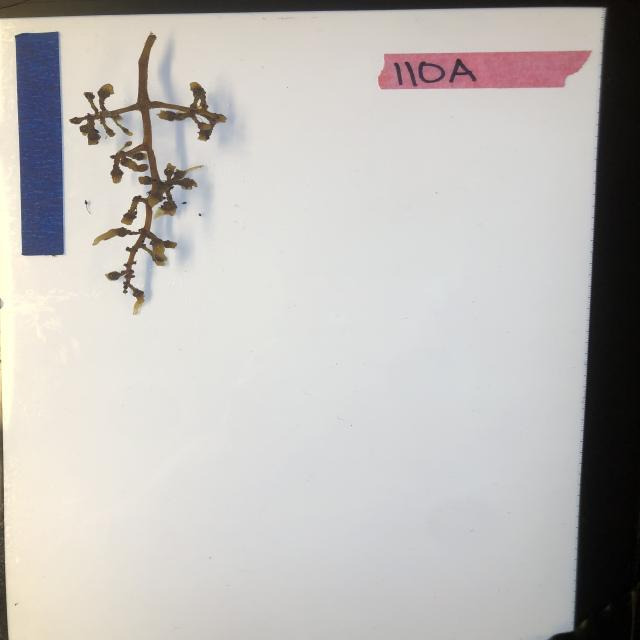index: (377, 50, 595, 89)
measure_label: (15, 31, 67, 255)
rachis_cluster: (70, 32, 230, 315)
